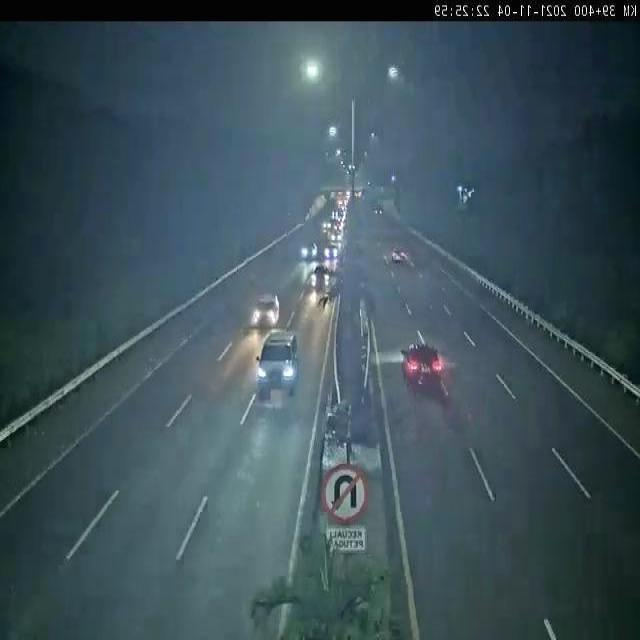Car: (256, 329, 302, 400), (402, 343, 442, 392), (250, 292, 280, 328), (311, 264, 332, 288), (300, 240, 317, 262), (323, 241, 339, 260), (391, 250, 405, 264)
